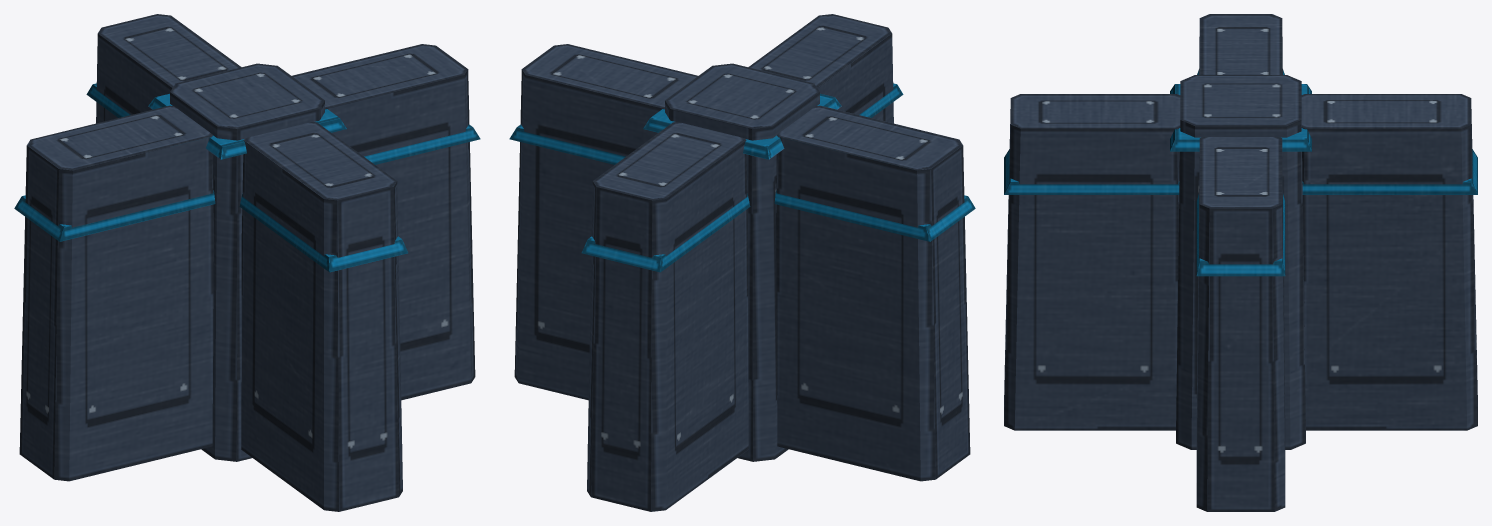
File: building-wall.fbx
The picture shows the model from 3 angles, left to right: view 1: azimuth 30°, elevation 25°; view 2: azimuth 150°, elevation 25°; view 3: azimuth 270°, elevation 25°; orthographic projection. The views are drawn at different scales.
Visible parts, largest first — view 1: building-wall; view 2: building-wall; view 3: building-wall.
Boxes of the visible parts, x1,y1,x2,y2 form: building-wall: (14,14,480,511); building-wall: (509,14,975,511); building-wall: (1004,14,1477,511).
Bounding box in the file's own units: 800 × 600 × 800.
1 material, 1 textured.
